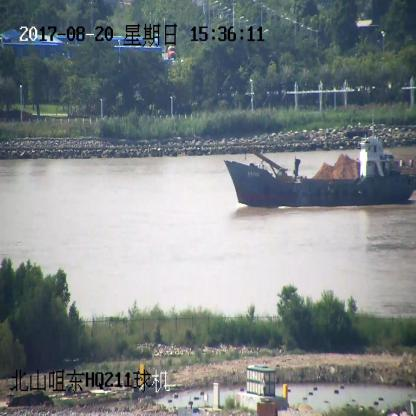Bulk Carrier: (225, 105, 416, 207)
